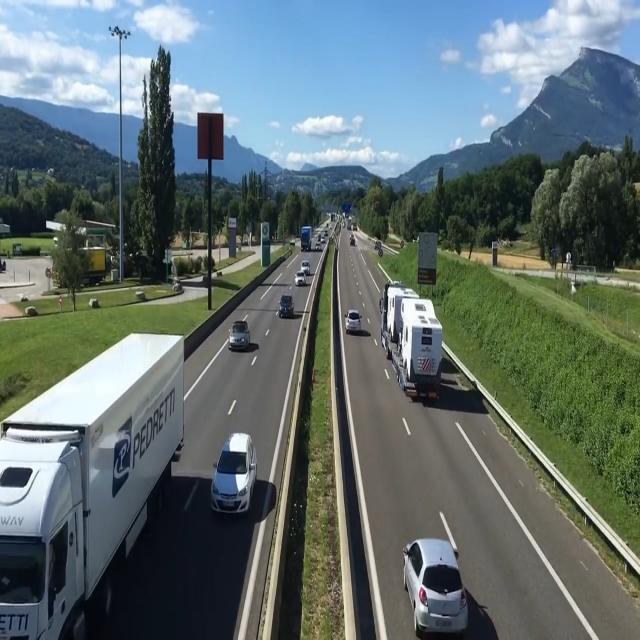car: (402, 536, 476, 640), (212, 432, 256, 517), (228, 316, 258, 354), (346, 305, 366, 337), (278, 288, 294, 320), (294, 268, 307, 290)
truck: (0, 394, 111, 640), (378, 274, 444, 407), (298, 224, 314, 254)
